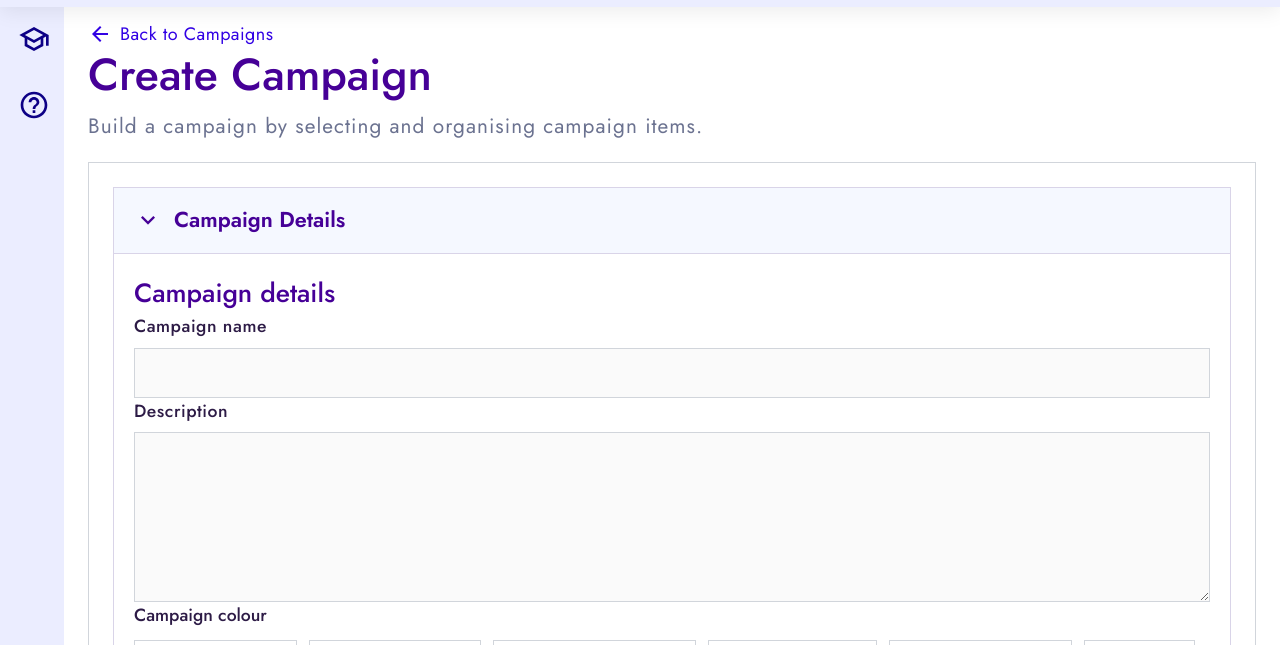
it: selects adaptive alternatives beyond 100 regardless of display filters; platform=true
Type "Keep my draft" into the field labelled "Campaign name" at (672,373), box left=134, top=348, right=1210, bottom=398
(page scrolled)
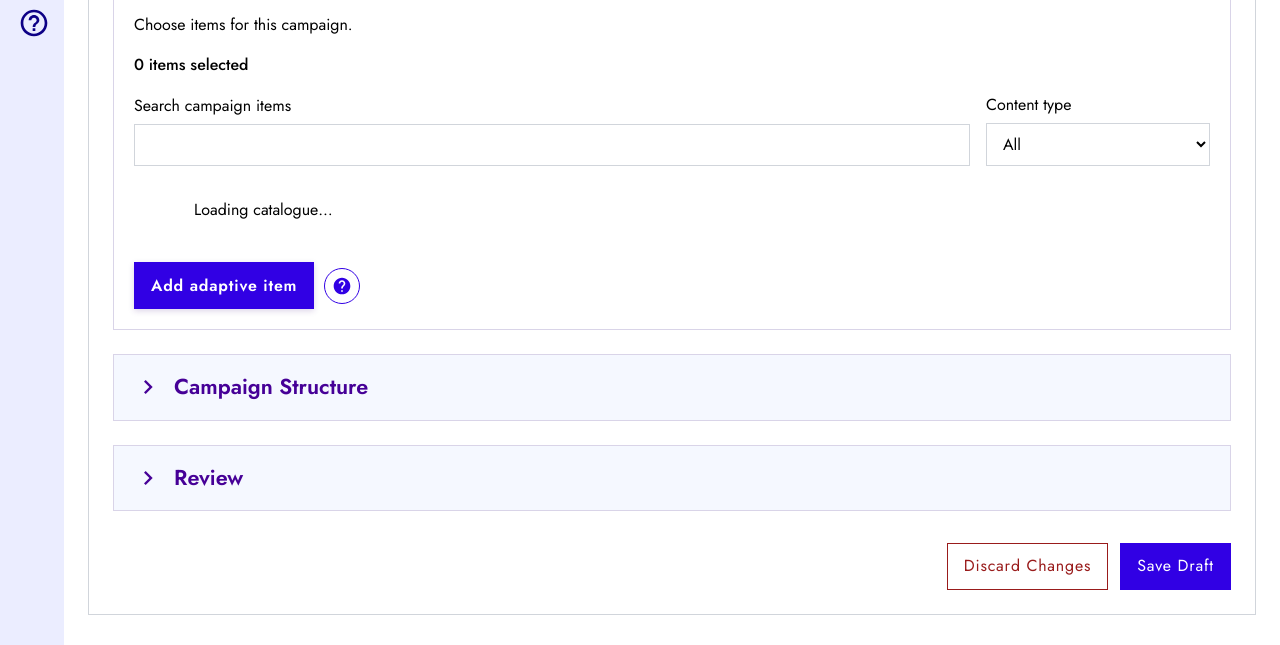
Click the button "Add adaptive item" at (224,286), box left=134, top=262, right=314, bottom=309
(page scrolled)
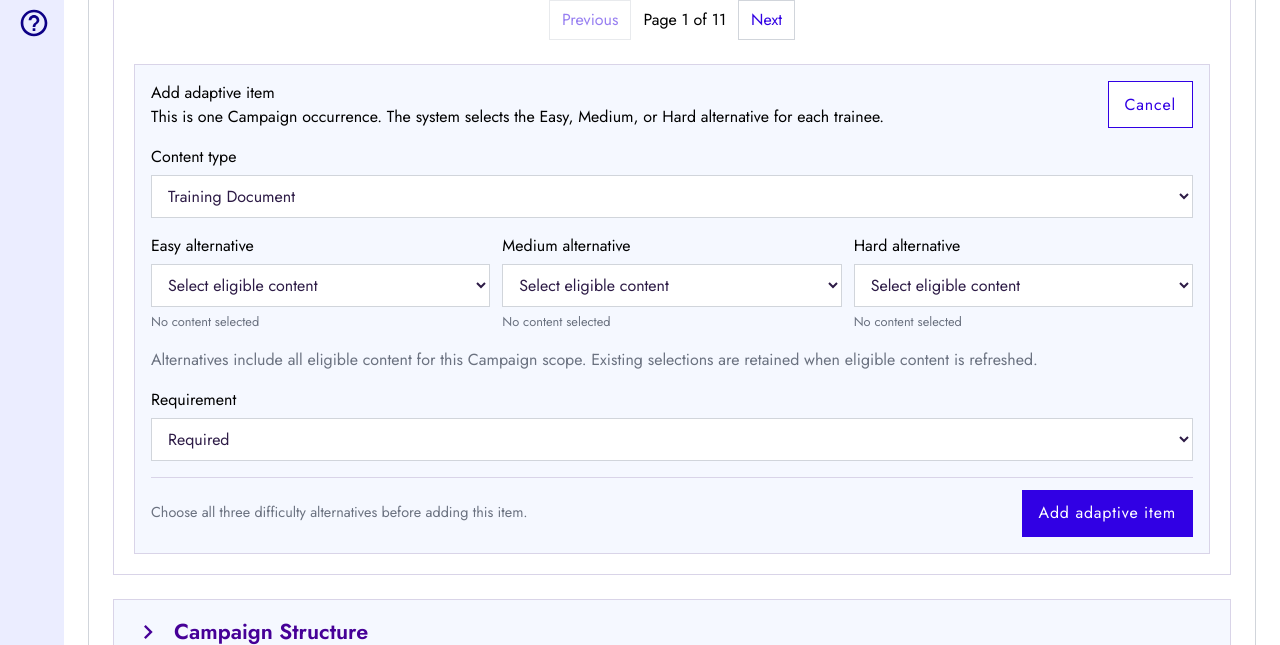
Now the dropdown labelled "Easy alternative No content selected" is enabled
Select "Training 0 (EASY)" in the dropdown labelled "Easy alternative No content selected" at (321,285), box left=151, top=264, right=490, bottom=307
Select "Training 100 (MEDIUM)" in the dropdown labelled "Medium alternative No content selected" at (672,285), box left=502, top=264, right=842, bottom=307
Select "Training 101 (HARD)" in the dropdown labelled "Hard alternative No content selected" at (1023,285), box left=854, top=264, right=1193, bottom=307
(page scrolled)
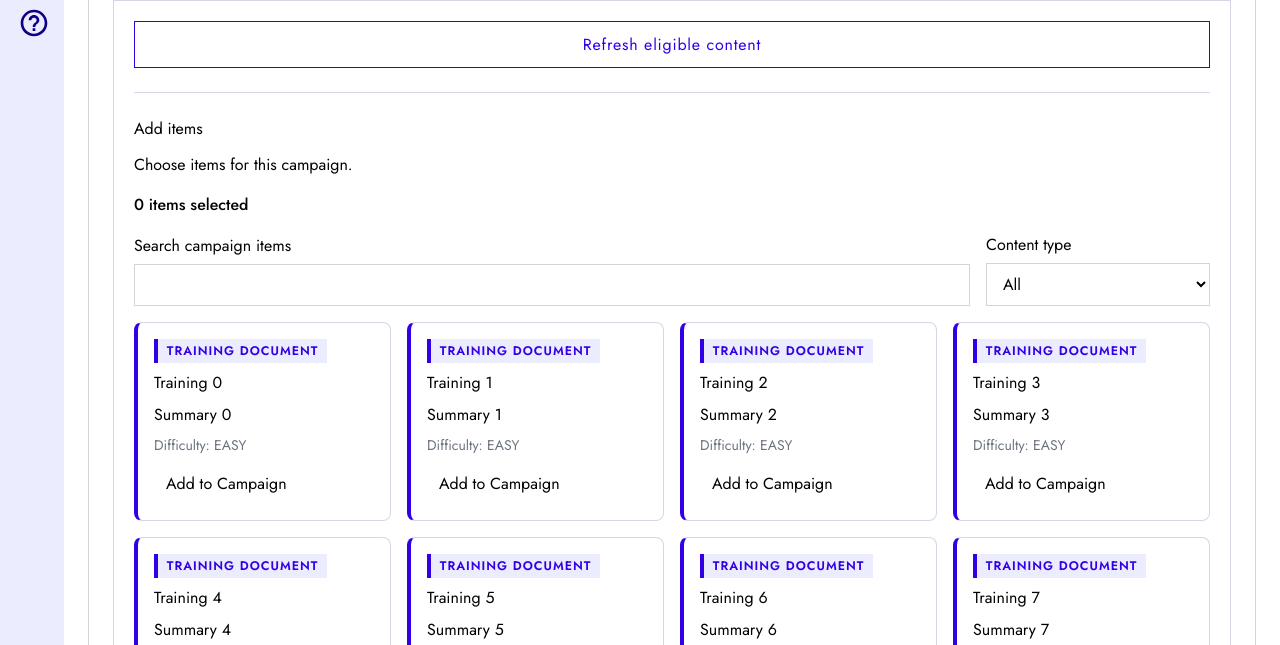
Type "no-match" into the search field labelled "Search campaign items" at (552,285), box left=134, top=264, right=970, bottom=306
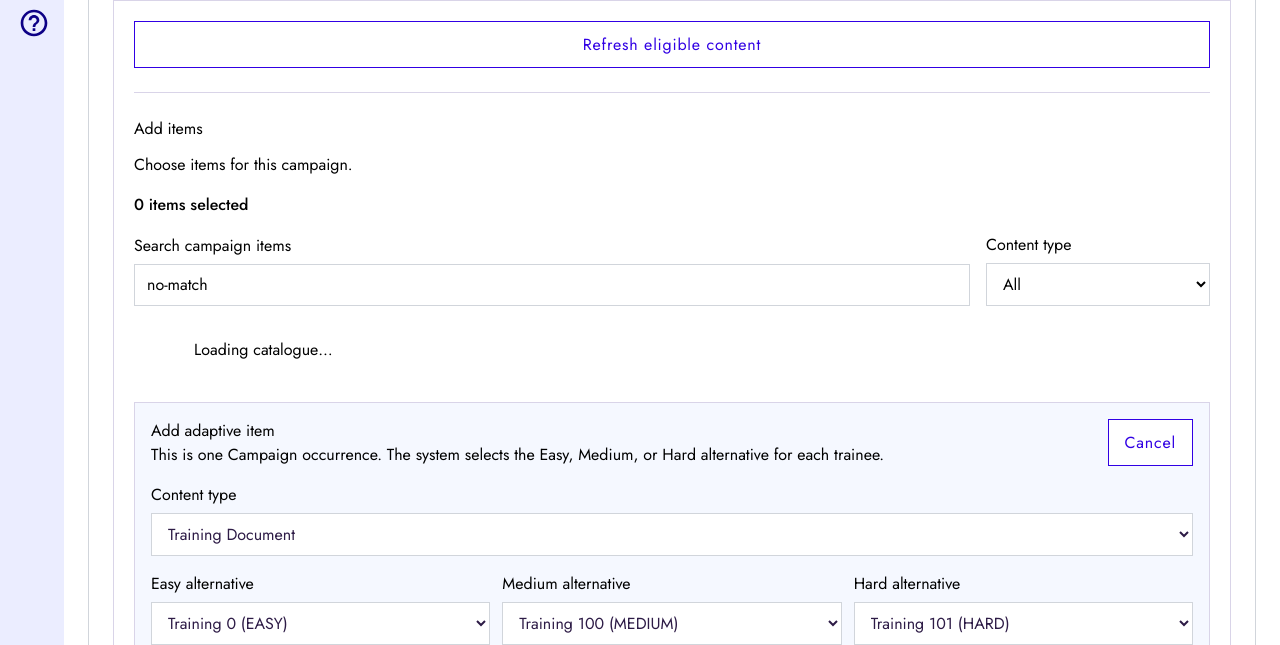
Select "Quizzes" in the 1st dropdown labelled "Content type" at (1098,285), box left=986, top=264, right=1210, bottom=306
(page scrolled)
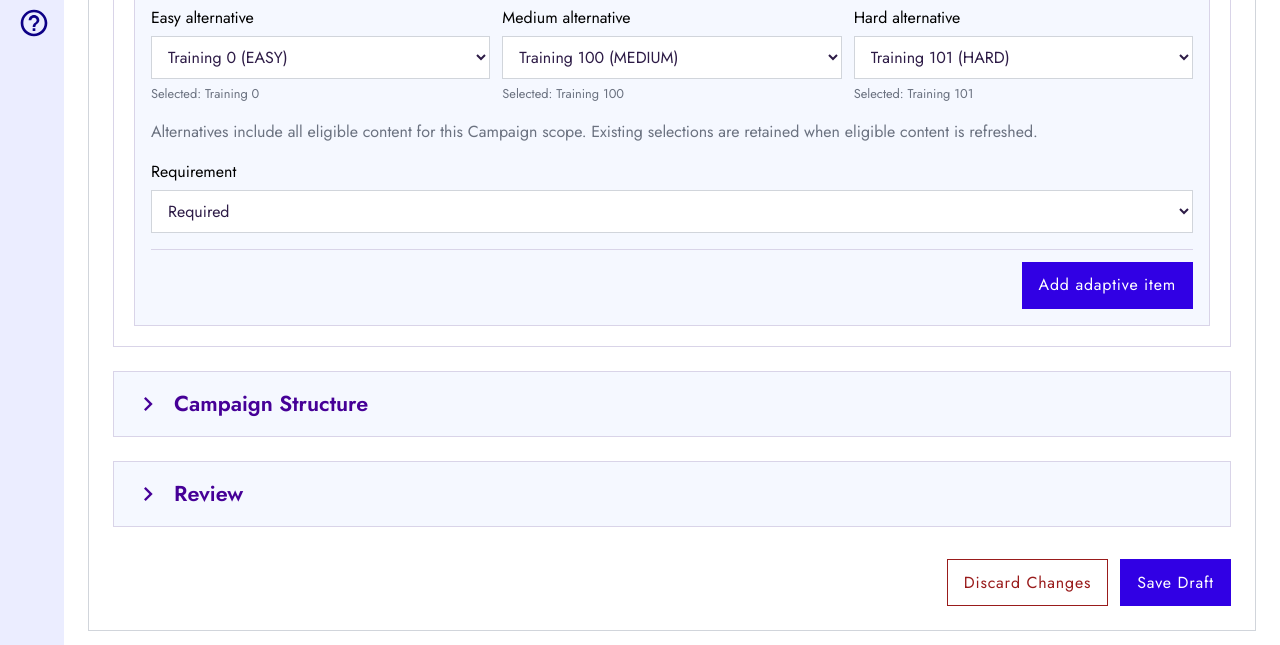
Click the button "Add adaptive item" at (1107,285), box left=1022, top=262, right=1193, bottom=309
(page scrolled)
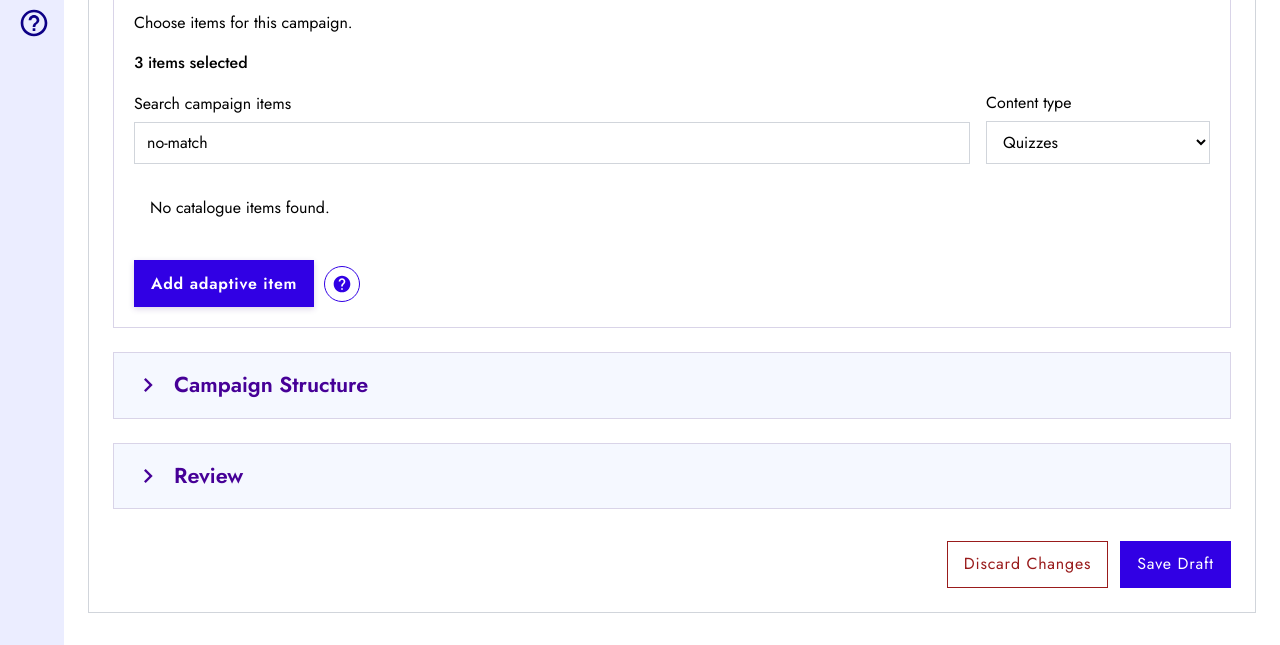
Now the text "3 items selected" is shown, box left=134, top=51, right=248, bottom=74
